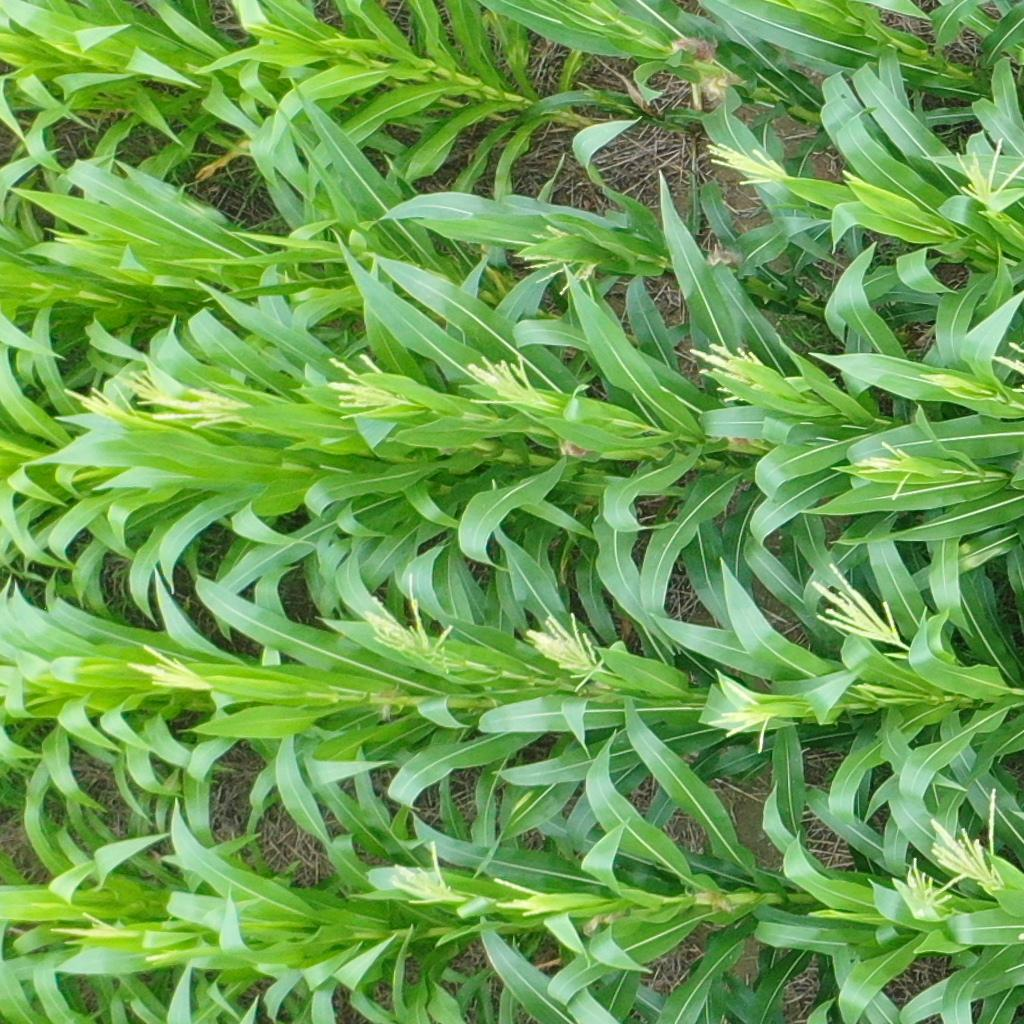Tassel: (899, 784, 1007, 921), (62, 364, 246, 431), (812, 561, 912, 656), (370, 573, 460, 674), (326, 349, 417, 423), (528, 609, 609, 692), (463, 351, 559, 417), (520, 220, 599, 293), (954, 135, 1024, 215), (389, 840, 467, 909), (711, 677, 775, 756), (689, 338, 765, 403), (125, 642, 210, 695), (704, 138, 794, 187), (856, 435, 920, 500), (490, 869, 560, 917), (46, 911, 139, 947), (989, 339, 1024, 383), (918, 372, 970, 390), (857, 679, 898, 700)
